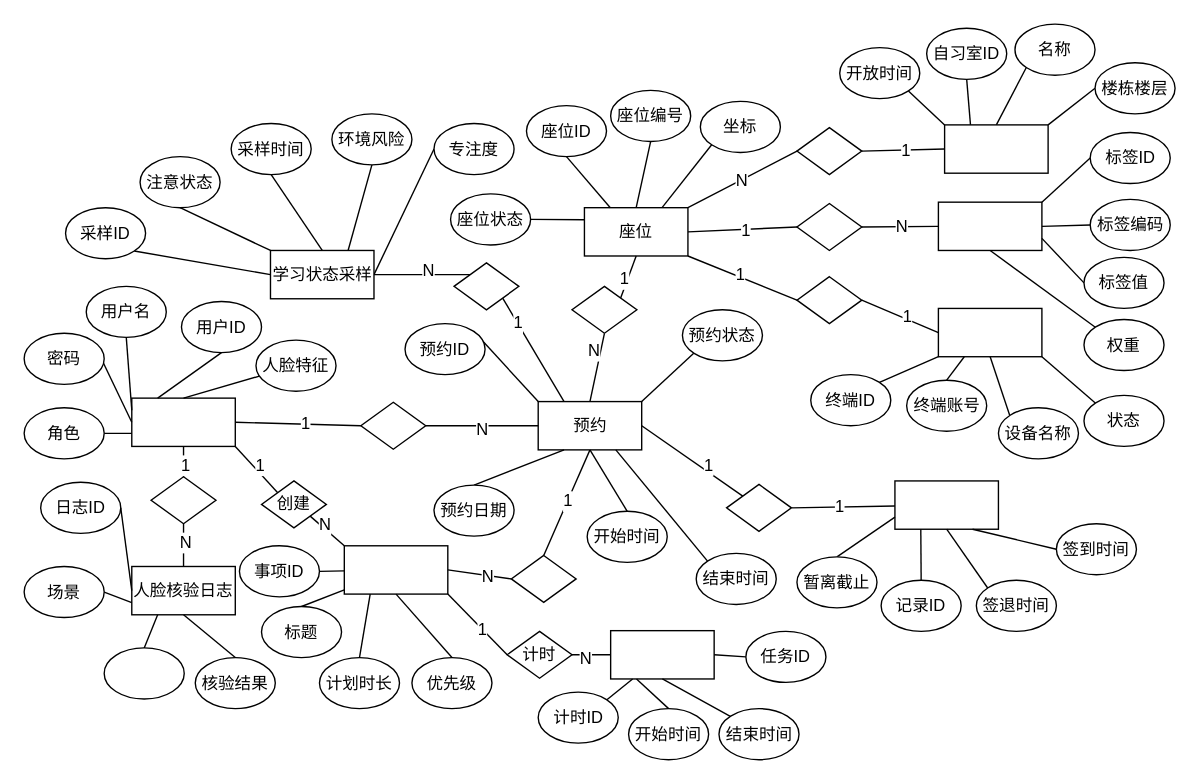
The diagram is 1199 pixels wide and 784 high, and some of its shapes have lost their labels. Each missing label, with the centre of its shape:
"关联" belongs at point 543,578.
"具有" belongs at point 829,226.
"占用" belongs at point 604,309.
"学习事项" belongs at point 395,569.
"学习计时" belongs at point 661,654.
"属于" belongs at point 829,150.
"座位标签" belongs at point 989,225.
"提交" belongs at point 392,425.
"核验" belongs at point 183,499.
"生成" belongs at point 758,507.
"用户" belongs at point 182,421.
"相似度" belongs at point 143,673.
"签到记录" belongs at point 946,504.
"终端设备" belongs at point 989,332.
"绑定" belongs at point 829,299.
"自习室" belongs at point 995,148.
"采集" belongs at point 486,286.
